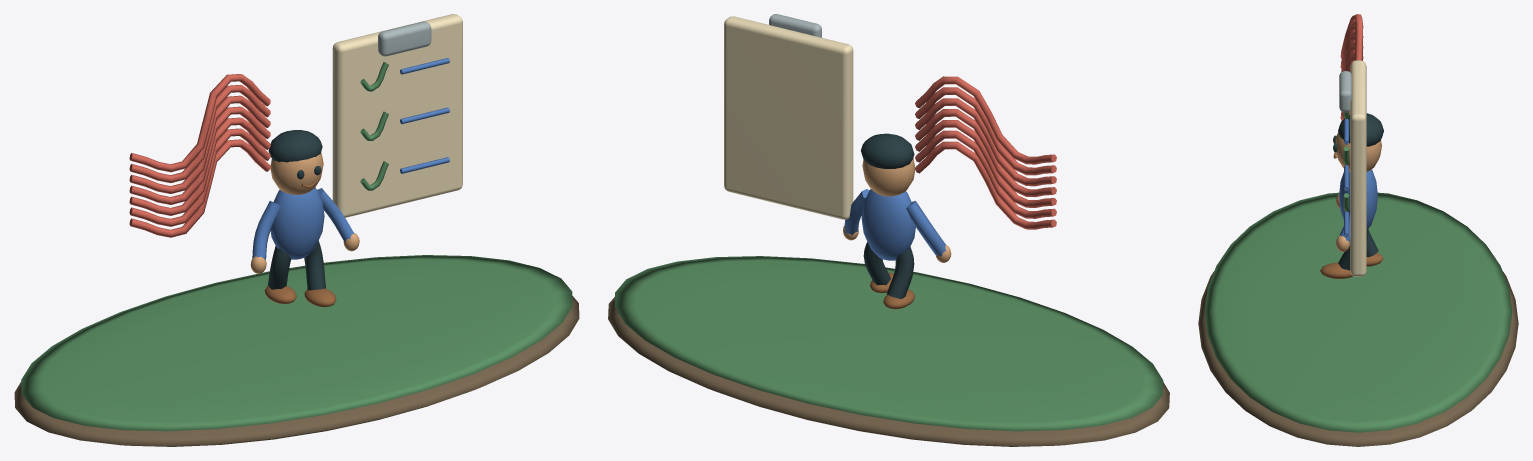
The model's file is complete-second-thread-manager.glb.
3 renders of one model, left to right at view 1: azimuth 30°, elevation 25°; view 2: azimuth 150°, elevation 25°; view 3: azimuth 270°, elevation 25°, orthographic. The views are drawn at different scales.
Visible parts, largest first — view 1: complete-second-thread-manager_surface_01, complete-second-thread-manager_surface_03, complete-second-thread-manager_surface_02, complete-second-thread-manager_surface_00, complete-second-thread-manager_surface_05, complete-second-thread-manager_surface_07, complete-second-thread-manager_surface_06, complete-second-thread-manager_surface_04, complete-second-thread-manager_surface_08; view 2: complete-second-thread-manager_surface_01, complete-second-thread-manager_surface_03, complete-second-thread-manager_surface_02, complete-second-thread-manager_surface_00, complete-second-thread-manager_surface_05, complete-second-thread-manager_surface_07, complete-second-thread-manager_surface_06, complete-second-thread-manager_surface_04, complete-second-thread-manager_surface_08; view 3: complete-second-thread-manager_surface_01, complete-second-thread-manager_surface_00, complete-second-thread-manager_surface_03, complete-second-thread-manager_surface_05, complete-second-thread-manager_surface_07, complete-second-thread-manager_surface_02, complete-second-thread-manager_surface_06, complete-second-thread-manager_surface_08, complete-second-thread-manager_surface_04.
Part boxes in pixels (box(x1,y1,x2,y2)): complete-second-thread-manager_surface_01: box(21, 62, 572, 431); complete-second-thread-manager_surface_03: box(332, 14, 462, 217); complete-second-thread-manager_surface_02: box(129, 74, 270, 237); complete-second-thread-manager_surface_00: box(14, 296, 579, 446); complete-second-thread-manager_surface_05: box(252, 58, 449, 259); complete-second-thread-manager_surface_07: box(268, 130, 325, 290); complete-second-thread-manager_surface_06: box(250, 152, 359, 273); complete-second-thread-manager_surface_04: box(378, 21, 431, 56); complete-second-thread-manager_surface_08: box(264, 181, 336, 307); complete-second-thread-manager_surface_01: box(614, 256, 1163, 431); complete-second-thread-manager_surface_03: box(724, 16, 853, 219); complete-second-thread-manager_surface_02: box(915, 76, 1056, 229); complete-second-thread-manager_surface_00: box(608, 297, 1169, 446); complete-second-thread-manager_surface_05: box(844, 189, 946, 260); complete-second-thread-manager_surface_07: box(860, 133, 914, 298); complete-second-thread-manager_surface_06: box(843, 158, 951, 262); complete-second-thread-manager_surface_04: box(769, 14, 821, 37); complete-second-thread-manager_surface_08: box(870, 272, 914, 309); complete-second-thread-manager_surface_01: box(1204, 112, 1512, 432); complete-second-thread-manager_surface_00: box(1198, 271, 1518, 446); complete-second-thread-manager_surface_03: box(1350, 60, 1366, 276); complete-second-thread-manager_surface_05: box(1339, 119, 1377, 243); complete-second-thread-manager_surface_07: box(1333, 113, 1383, 270); complete-second-thread-manager_surface_02: box(1340, 14, 1363, 120); complete-second-thread-manager_surface_06: box(1335, 132, 1381, 252); complete-second-thread-manager_surface_08: box(1320, 152, 1383, 278); complete-second-thread-manager_surface_04: box(1339, 71, 1351, 112).
Bounding box in the file's own units: 4.56 × 2.62 × 2.5.
